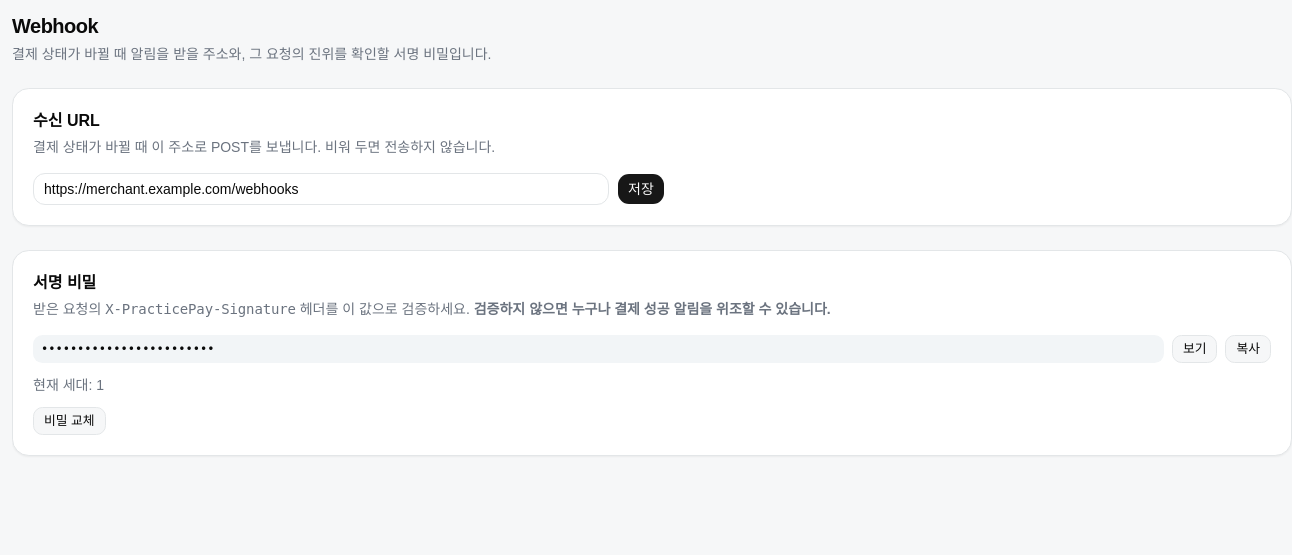
Scenario: WebhookPage › 확인 절차 없이는 비밀을 교체하지 않는다
The width and height of the screenshot is (1292, 555).
Click the button "비밀 교체": (69, 421) [33, 407, 106, 435]
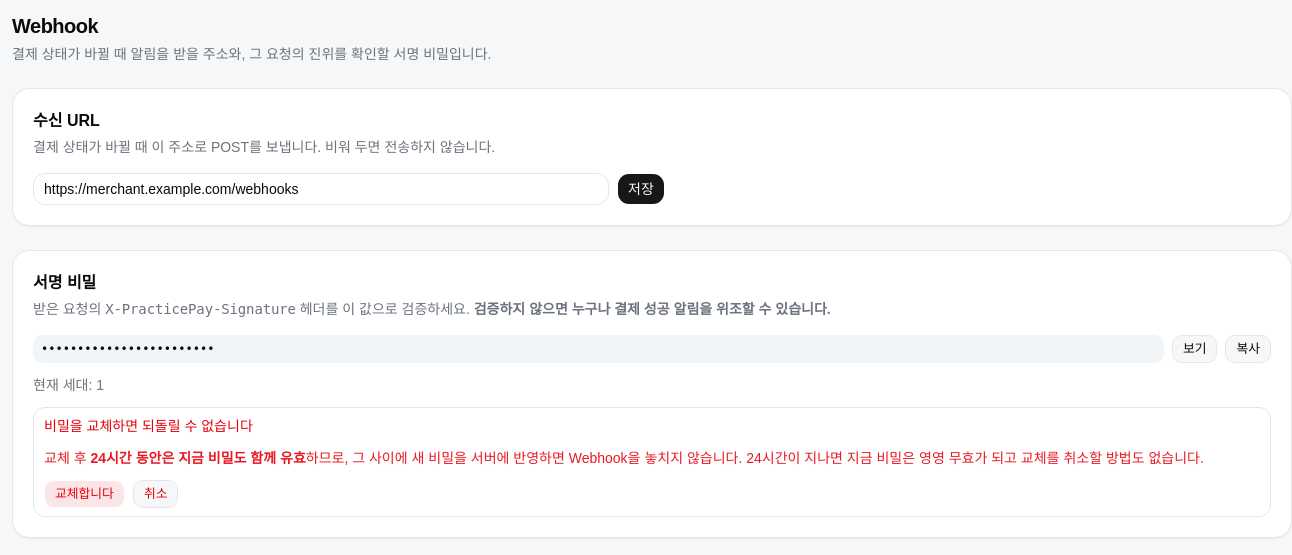
expect the text "비밀을 교체하면 되돌릴 수 없습니다" is shown: met, box [44, 418, 253, 434]
